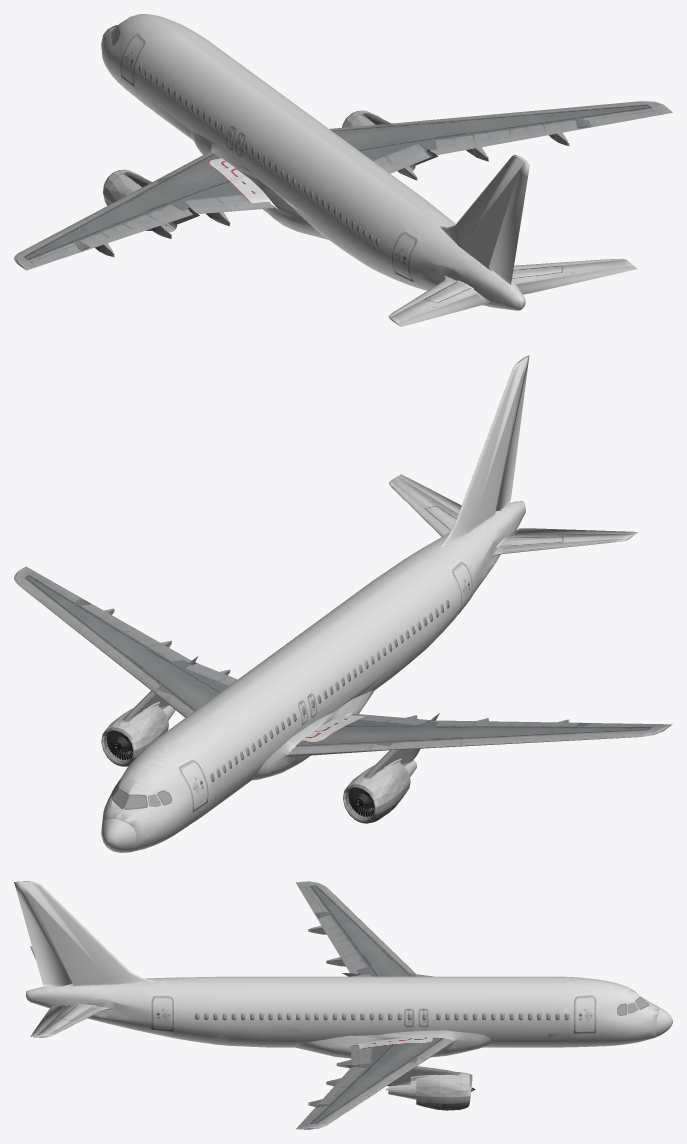
3 views of the same model, one above another, from view 1: azimuth 30°, elevation 25°; view 2: azimuth 150°, elevation 25°; view 3: azimuth 270°, elevation 25° (orthographic). The views are drawn at different scales.
Parts seen in each view (by area): view 1: rootNode; view 2: rootNode, casing_001; view 3: rootNode.
Boxes of the visible parts, box(x1,y1,x2,y2) form: rootNode: box(14, 14, 672, 326); rootNode: box(14, 355, 672, 852); casing_001: box(103, 705, 416, 820); rootNode: box(14, 881, 672, 1129).
Size of the model in its own units: 33.91 by 11.63 by 38.27.
4 materials, 4 textured.
